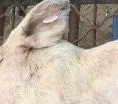text: (37, 7, 63, 30)
